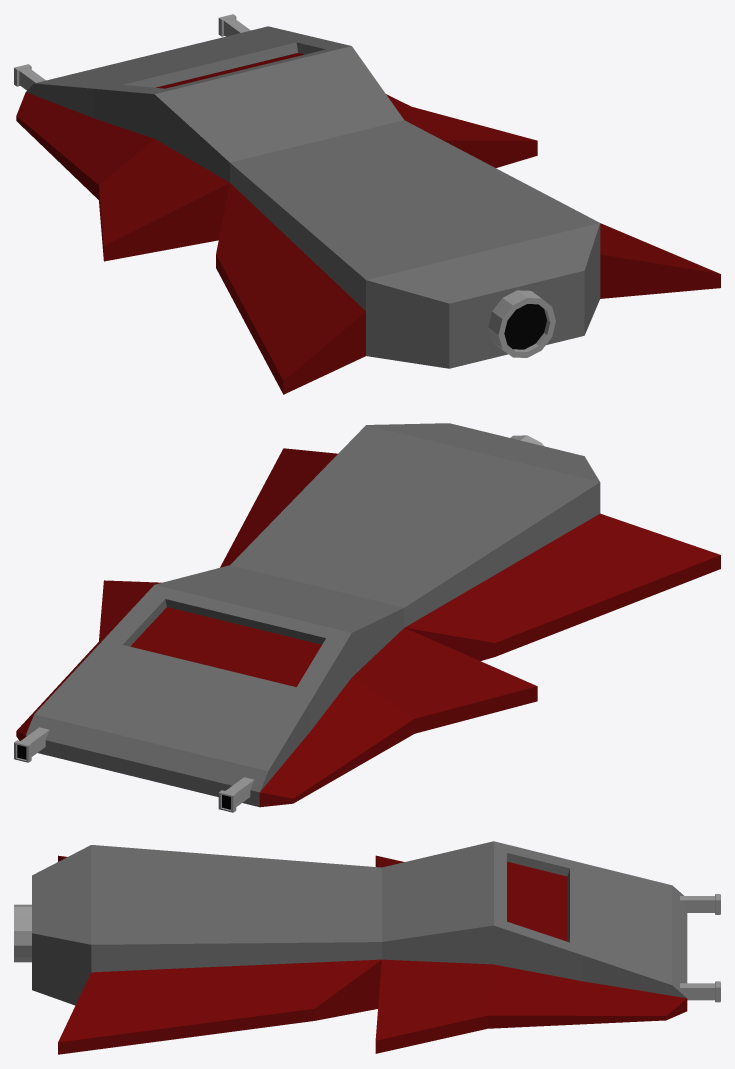
The model's file is MediumEnemyShip.fbx.
3 views of the same model, one above another, from view 1: azimuth 30°, elevation 25°; view 2: azimuth 150°, elevation 25°; view 3: azimuth 270°, elevation 25° (orthographic). The views are drawn at different scales.
Visible parts, largest first — view 1: MediumEnemyShip; view 2: MediumEnemyShip; view 3: MediumEnemyShip.
Boxes of the visible parts, box(x1,y1,x2,y2) form: MediumEnemyShip: box(14, 14, 720, 394); MediumEnemyShip: box(14, 423, 720, 812); MediumEnemyShip: box(14, 841, 720, 1054).
Size of the model in its own units: 5.33 by 8.52 by 1.16.
